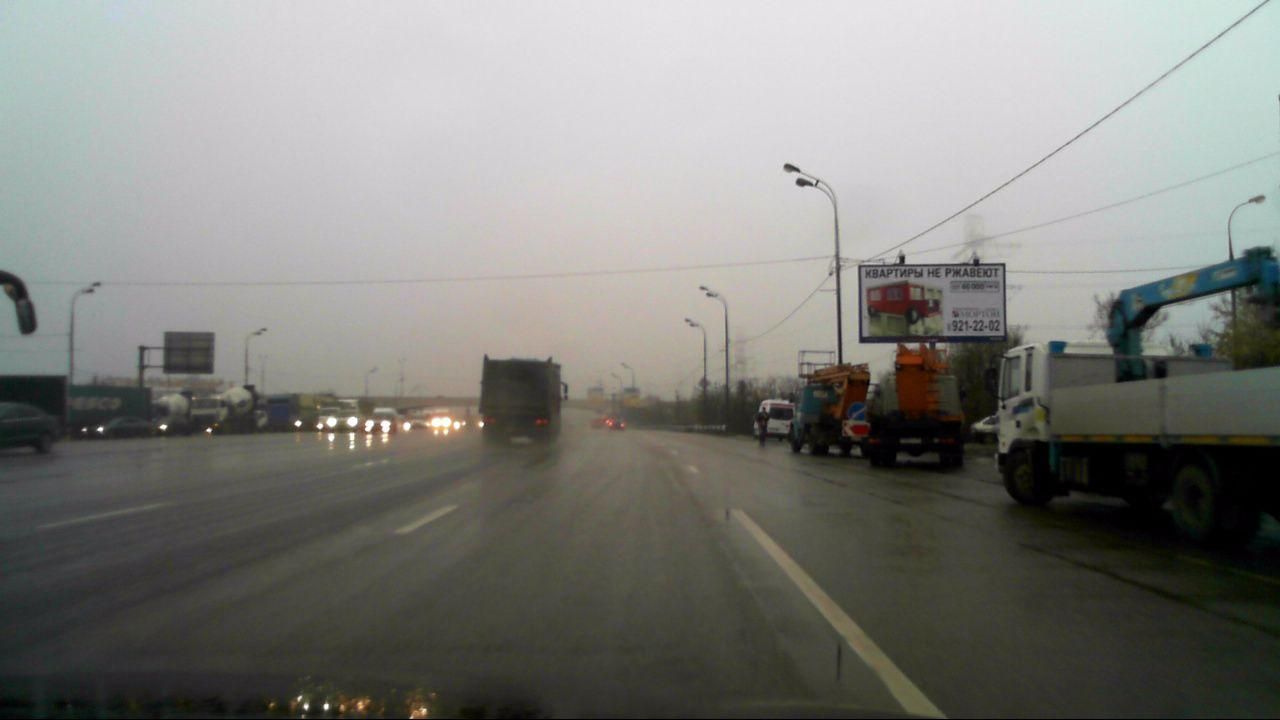road_sign: (841, 420, 871, 437), (848, 402, 867, 419)
